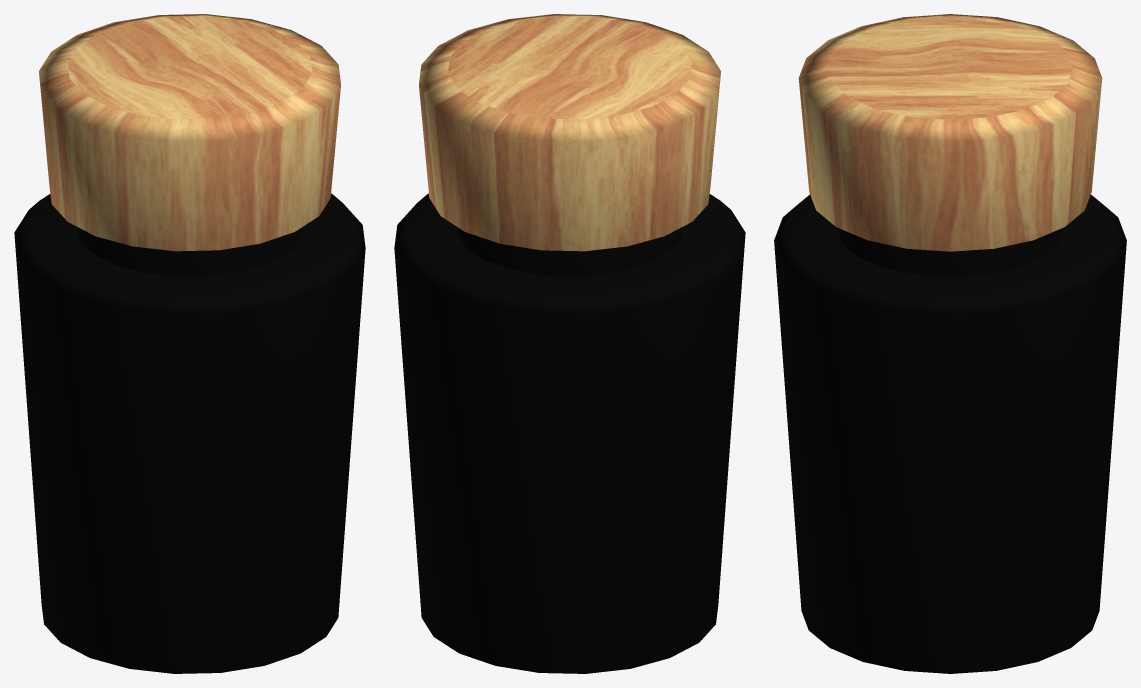
Rendered from choumiryou04.fbx.
3 renders of one model, left to right at view 1: azimuth 30°, elevation 25°; view 2: azimuth 150°, elevation 25°; view 3: azimuth 270°, elevation 25°, orthographic.
Visible parts, largest first — view 1: polySurface2, polySurface3; view 2: polySurface2, polySurface3; view 3: polySurface2, polySurface3.
Part boxes in pixels (<box>): polySurface2: <box>14,193,365,673</box>; polySurface3: <box>39,14,340,251</box>; polySurface2: <box>394,193,745,673</box>; polySurface3: <box>419,14,720,251</box>; polySurface2: <box>774,194,1126,673</box>; polySurface3: <box>798,14,1102,251</box>.
Size of the model in its own units: 8.32 by 14.13 by 8.32.
Materials: 1 (1 with a texture image).
